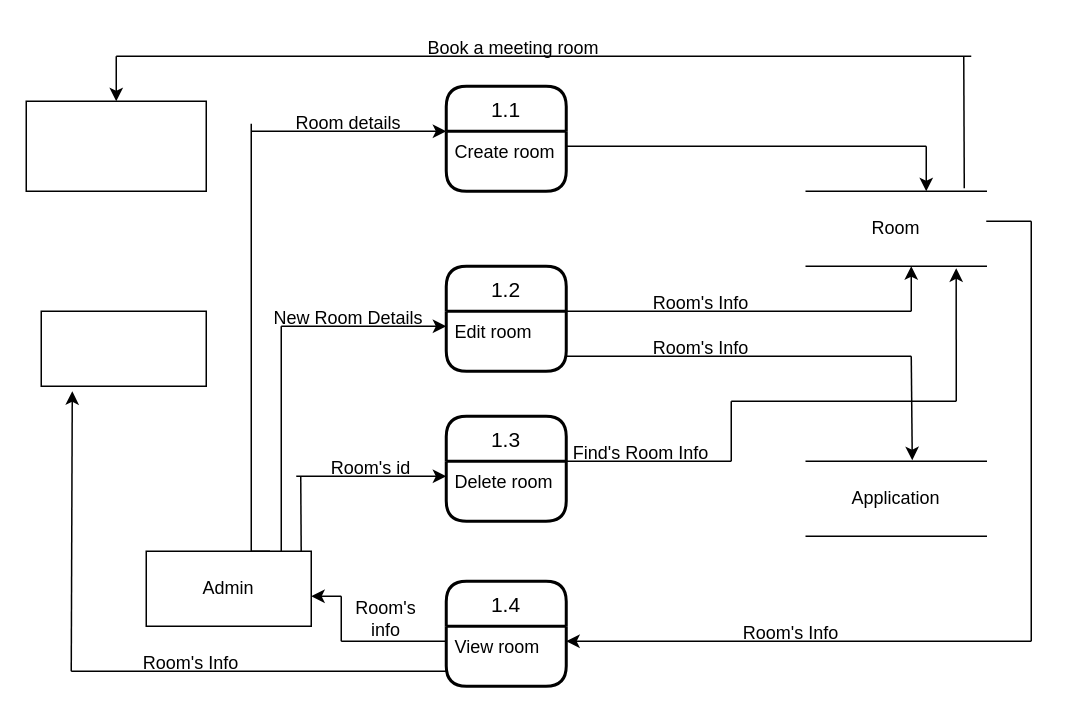
Some shapes in this 1070 by 713 pixel diagram are drawn without their labels. Each missing label, with the centre of its shape:
Manager: the point at 115,145
User: the point at 123,348
